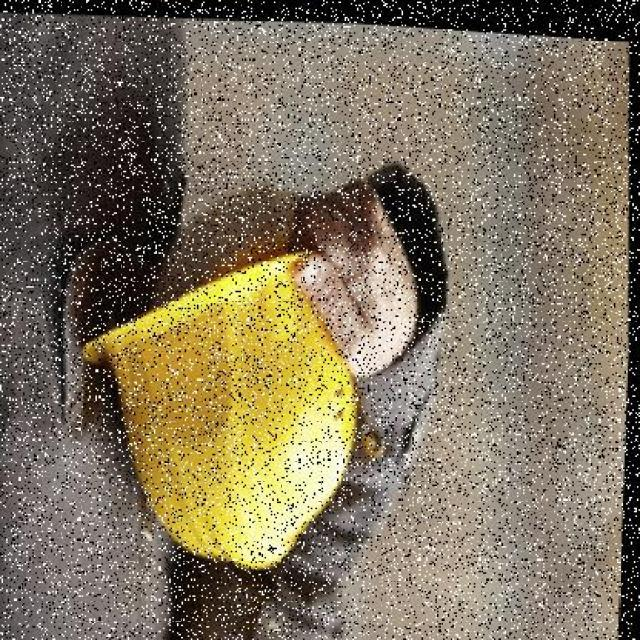helmet: (71, 228, 387, 581)
